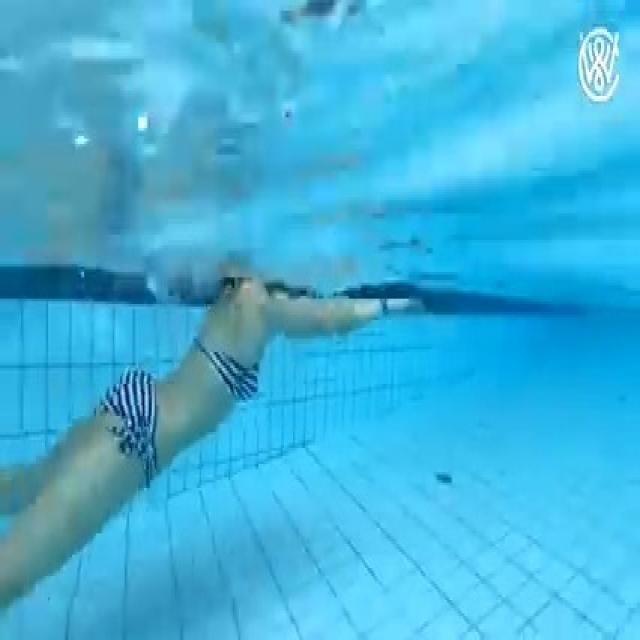Swimming: (2, 271, 426, 594)
